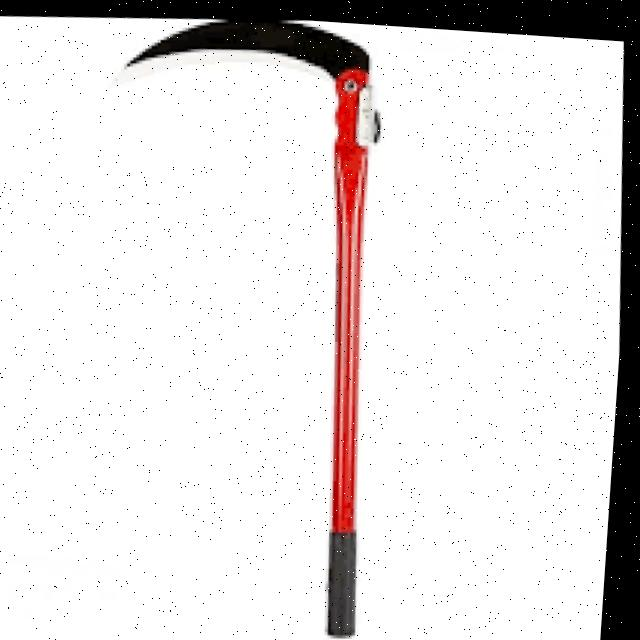sickle: (94, 7, 445, 640)
